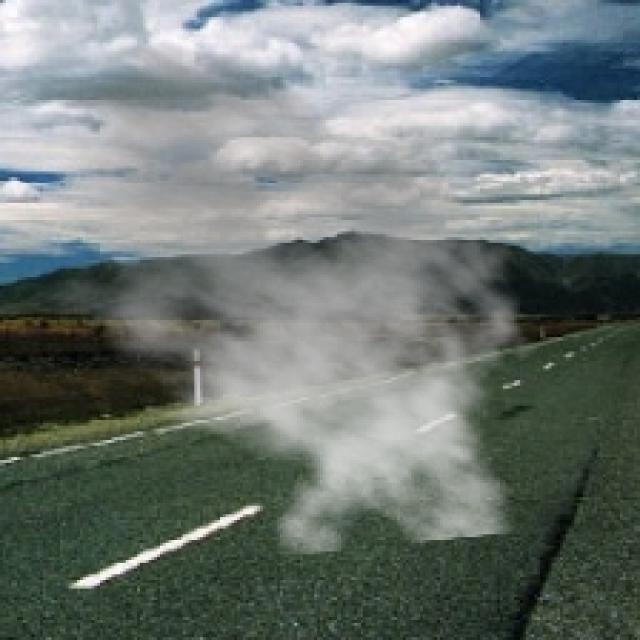smoke: (9, 37, 552, 557)
